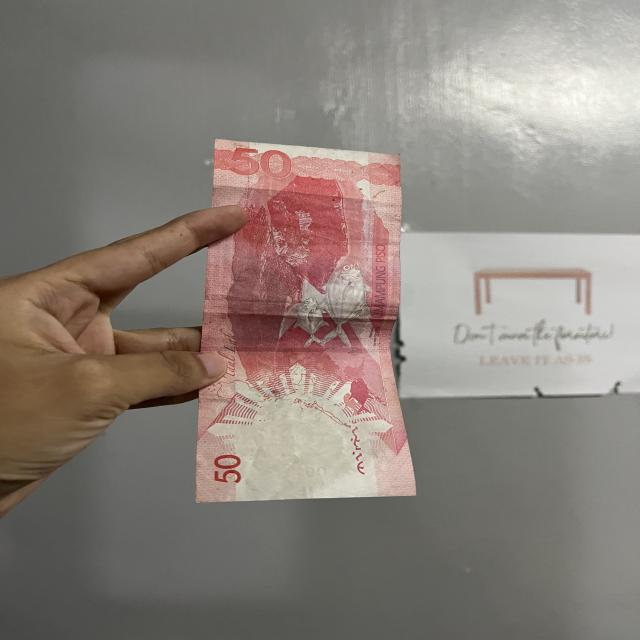see_through_mark: (340, 418, 374, 487)
